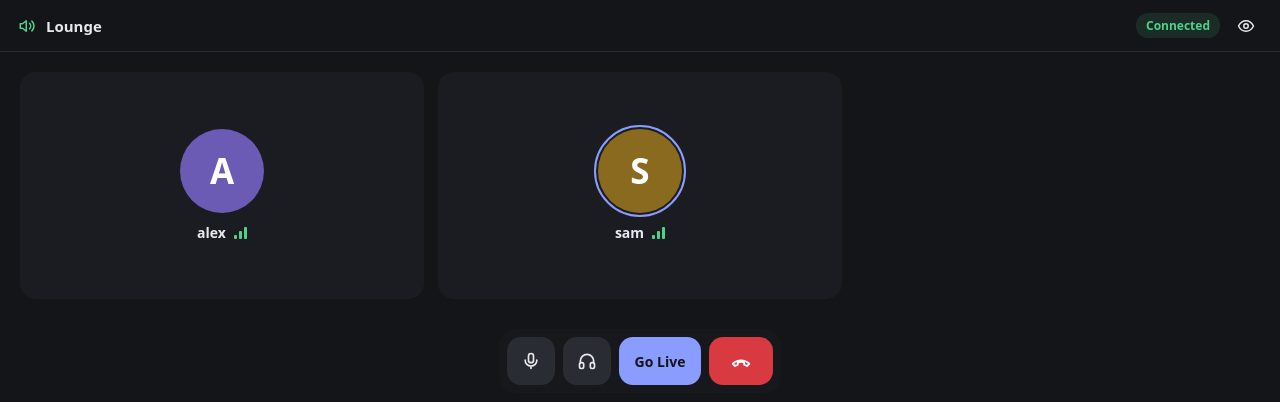
Scenario: ParticipantMenu › View profile opens the card
Press ContextMenu in the button with class "avatar-btn" showing "S", box [598,129,682,213]
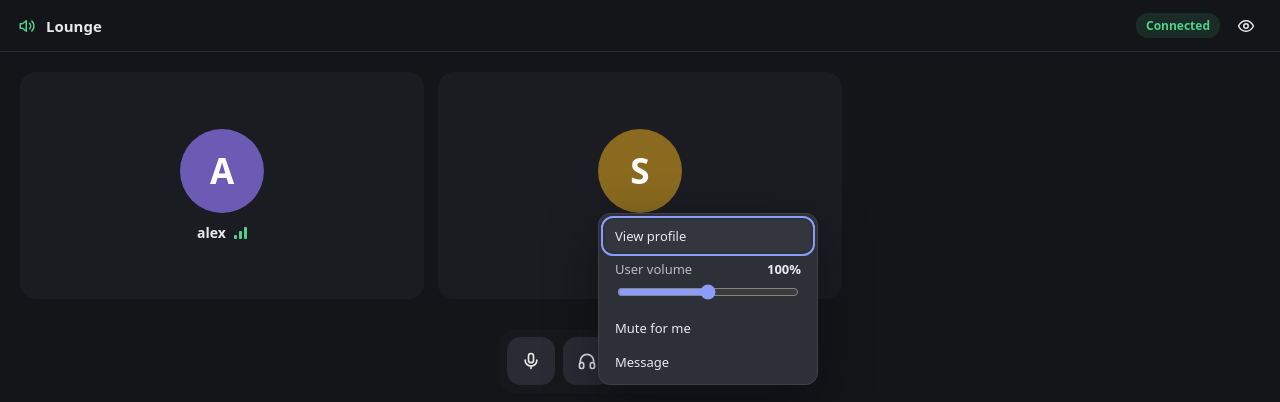
Expected: the menu item "View profile" is shown
Click the menu item "View profile" at (708, 236), box [605,220,811,252]
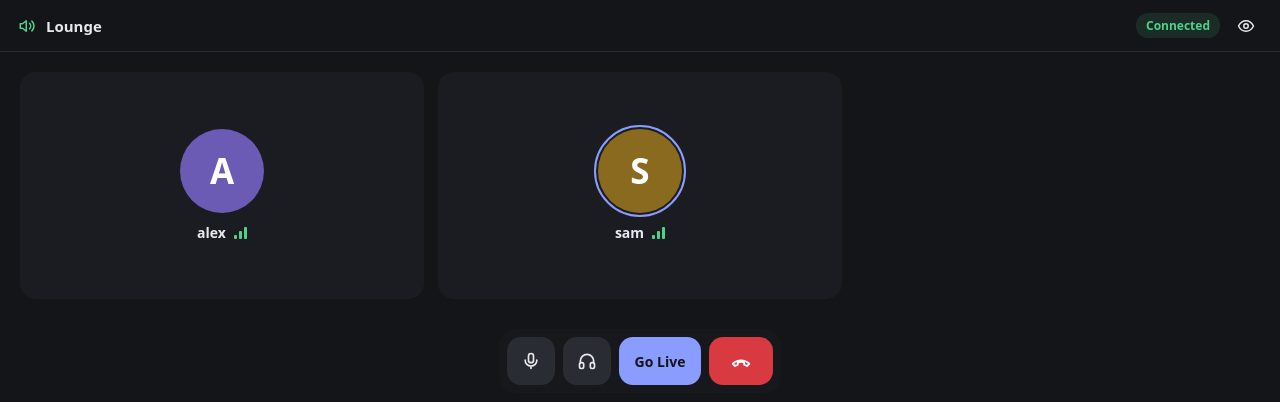
Expected: the menu is gone
